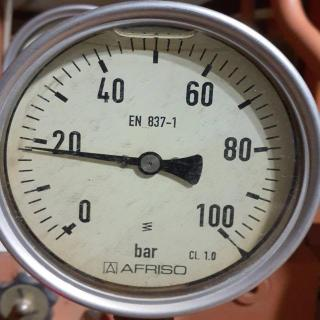gauge: (0, 0, 320, 320), (191, 201, 249, 255), (47, 195, 101, 249), (136, 150, 164, 178), (20, 142, 40, 154)
